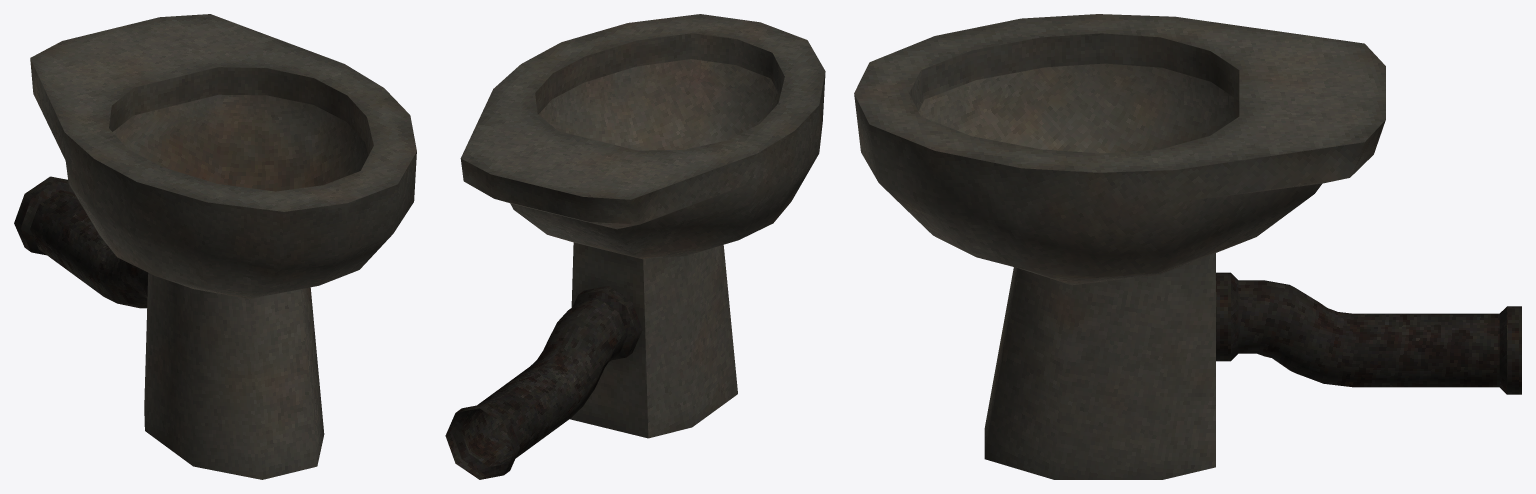
The model's file is toilet_mp_1_2.glb.
3 renders of one model, left to right at view 1: azimuth 30°, elevation 25°; view 2: azimuth 150°, elevation 25°; view 3: azimuth 270°, elevation 25°, orthographic. The views are drawn at different scales.
Visible parts, largest first — view 1: toilet_mp_1_2; view 2: toilet_mp_1_2; view 3: toilet_mp_1_2.
Boxes of the visible parts, x1=… form: toilet_mp_1_2: x1=14, y1=14, x2=416, y2=479; toilet_mp_1_2: x1=445, y1=14, x2=825, y2=479; toilet_mp_1_2: x1=854, y1=14, x2=1521, y2=479.
Size of the model in its own units: 0.5046 by 0.5204 by 0.8968.
Materials: 1 (1 with a texture image).
